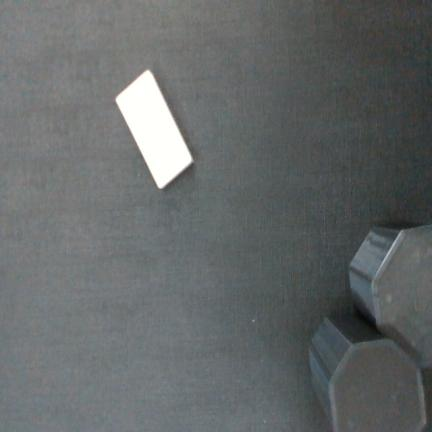Paralelepipedo: (113, 67, 195, 190)
Prisma_hexagonal: (308, 315, 427, 431), (350, 222, 431, 370)
